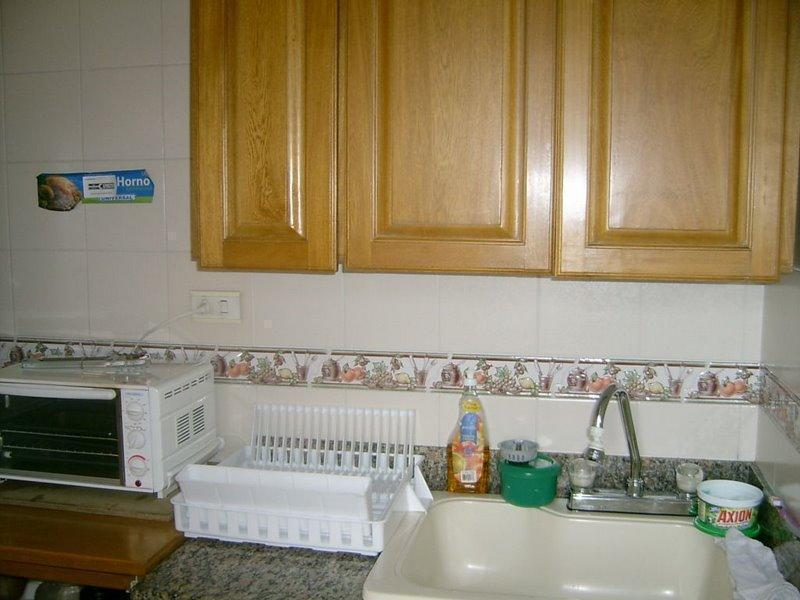Lavaplatos: (383, 399, 767, 596)
